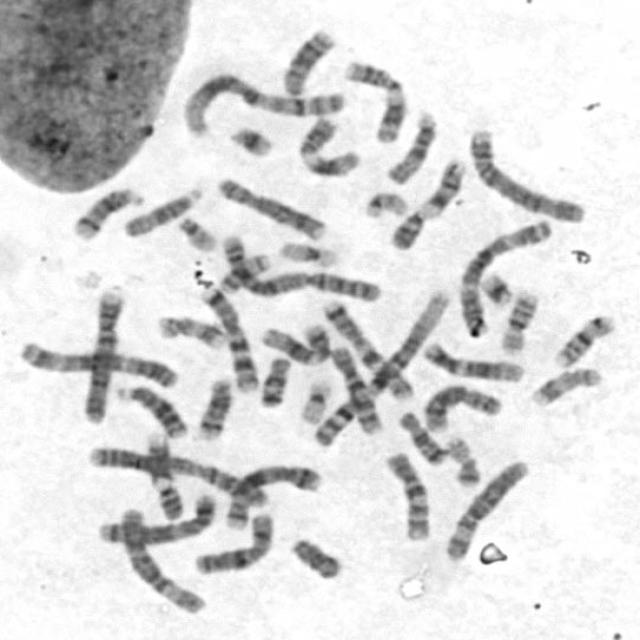A1: (309, 285, 455, 449), (176, 66, 347, 139)
A2: (80, 440, 274, 509), (216, 228, 384, 304)
A3: (454, 212, 555, 338), (13, 335, 181, 390)
B4: (463, 122, 588, 225), (74, 282, 128, 424)
B5: (222, 458, 324, 532), (91, 488, 219, 546)
C10: (325, 341, 387, 437), (378, 446, 435, 543)
C11: (337, 54, 409, 144), (294, 111, 363, 179)
C12: (417, 336, 528, 384), (257, 316, 333, 367)
C6: (113, 500, 209, 616), (440, 453, 532, 563)
C7: (316, 296, 415, 402), (193, 281, 262, 394)
C8: (210, 171, 329, 241), (417, 379, 506, 433)
C9: (384, 154, 468, 251), (138, 426, 186, 522)
D13: (110, 378, 190, 439), (277, 23, 338, 98)
D14: (66, 182, 146, 242), (191, 371, 236, 441)
D15: (119, 182, 205, 238), (380, 106, 440, 186)
E16: (548, 308, 618, 369), (494, 285, 541, 355)
E17: (526, 361, 606, 409), (151, 309, 229, 351)
E18: (394, 406, 449, 466), (254, 349, 294, 409)
F19: (272, 234, 342, 269), (296, 373, 336, 425)
F20: (214, 248, 274, 295), (441, 429, 484, 488)
G21: (224, 118, 277, 158), (475, 267, 517, 307)
G22: (173, 210, 220, 253), (359, 186, 412, 220)
X: (188, 506, 278, 576)
Y: (286, 532, 346, 581)
